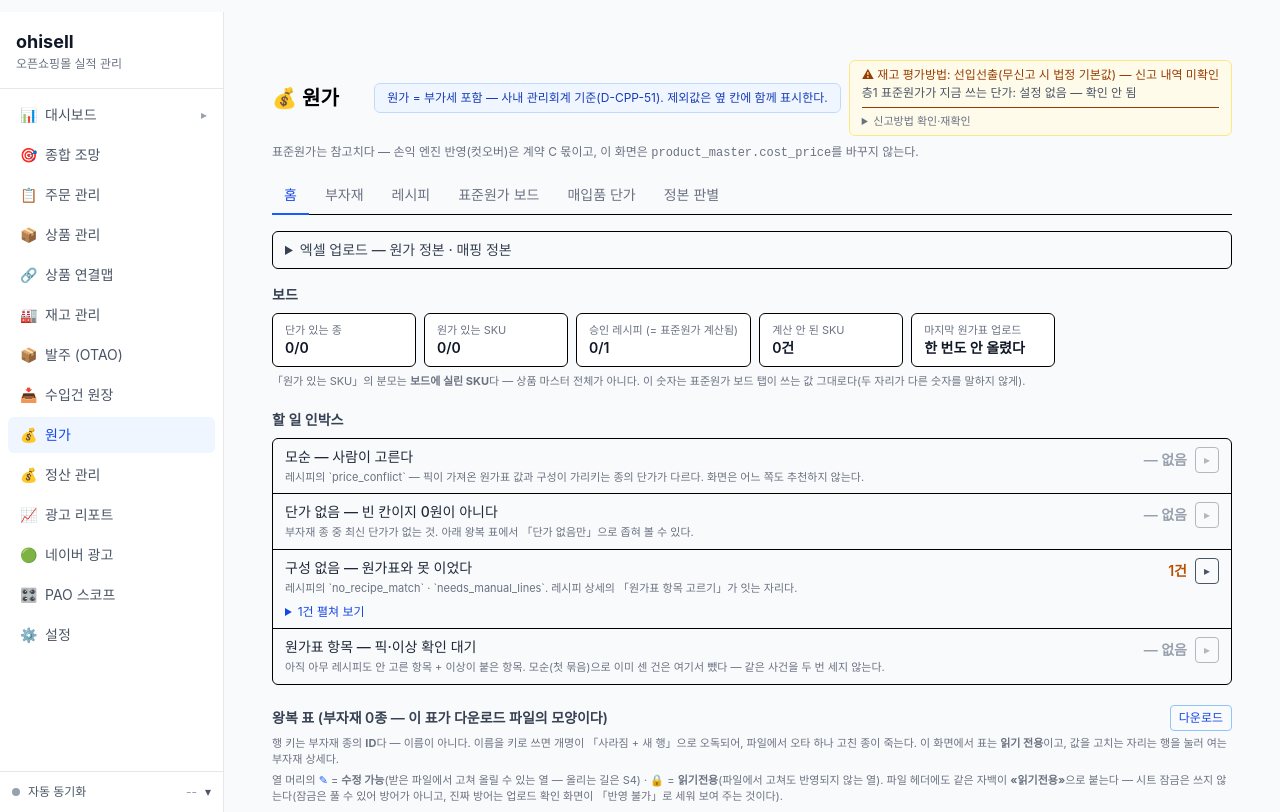
Scenario: ★원가표 픽이 사람에게 닿는 경로 — 라우트·페이지·호출부가 한 줄로 이어진다 › ★승인된 레시피에서는 픽 버튼이 잠긴다 — 승인분을 픽이 갈아치우지 않는다
Expected: the heading "💰 원가" is shown, 272,84 -> 339,112
Click the button "레시피". click: {"x": 411, "y": 196}
box: 380,177 -> 442,215
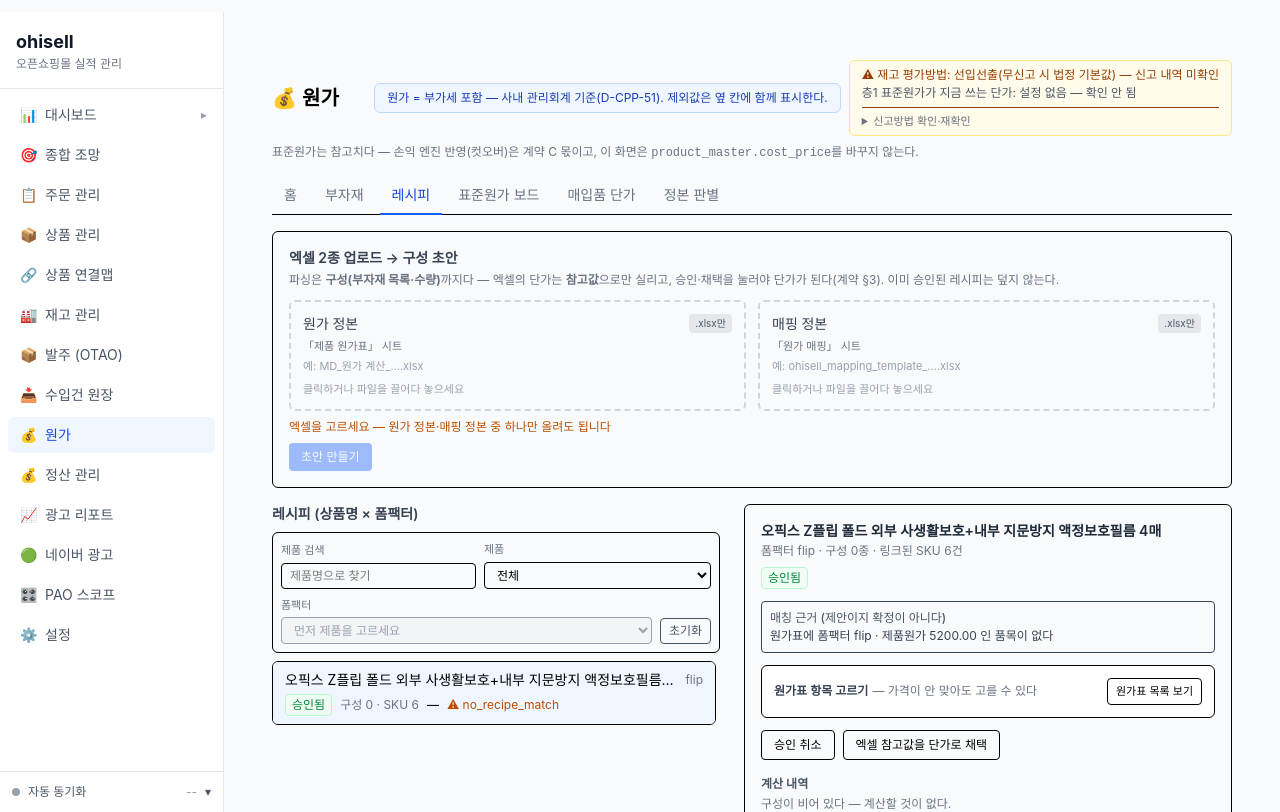
Click the button with test id "picker-load". click: {"x": 1154, "y": 691}
box: 1107,678 -> 1202,705
(page scrolled)
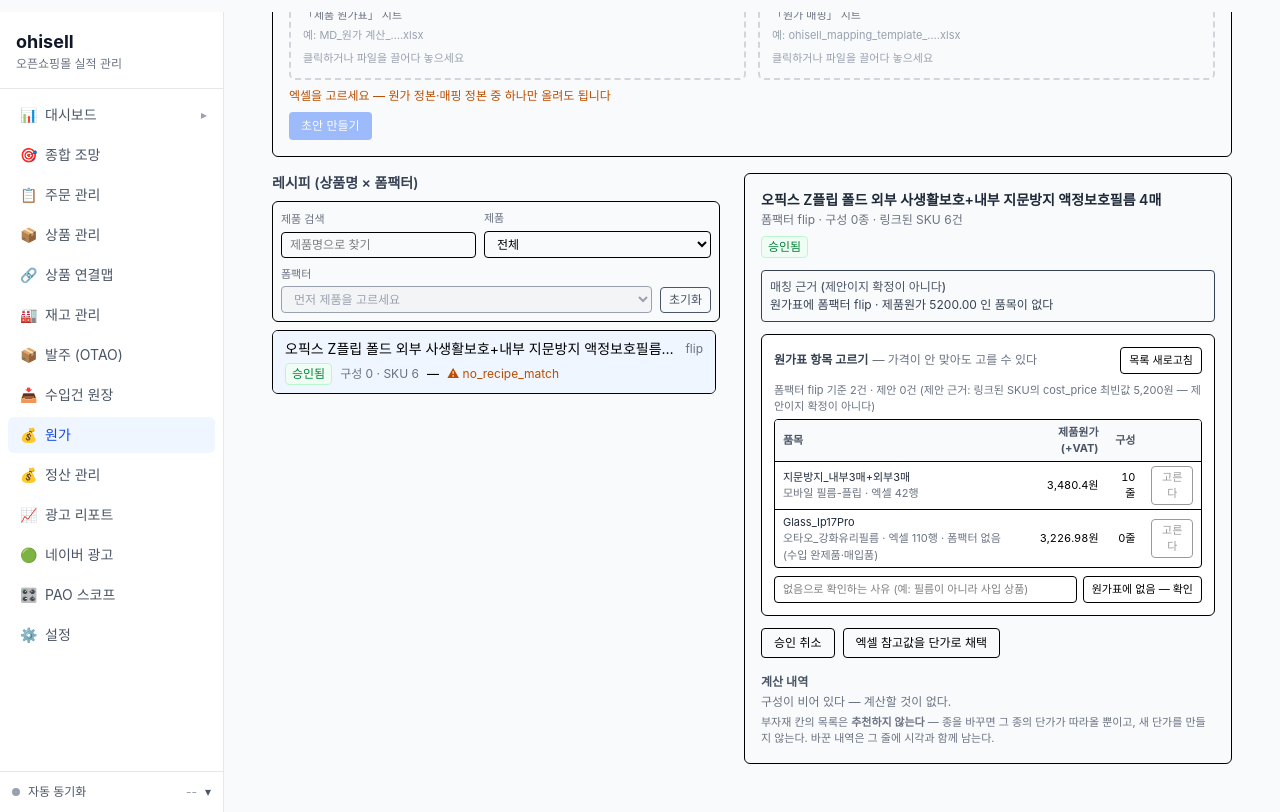
Expected: the button with test id "picker-pick-7" is disabled, 1152,466 -> 1193,505
